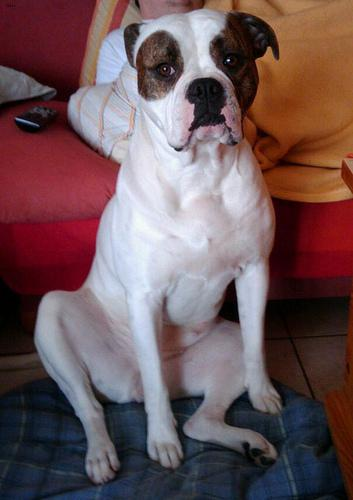dog-american_bulldog: (122, 7, 278, 152)
